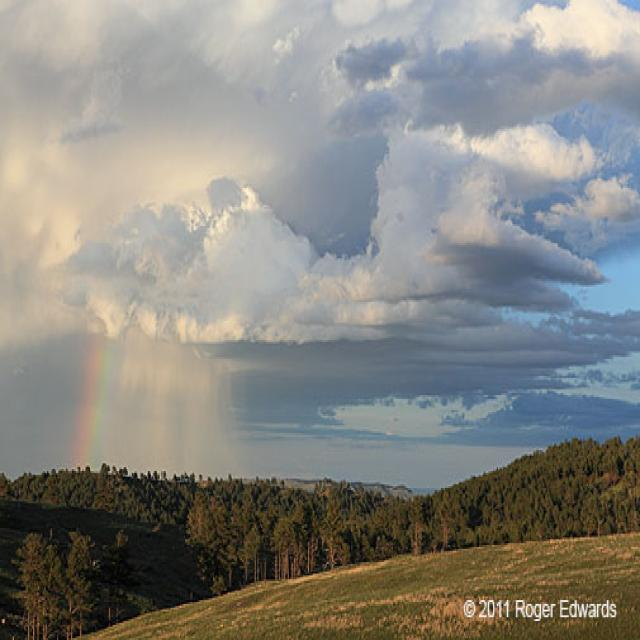cumulonimbus: (1, 1, 640, 434)
